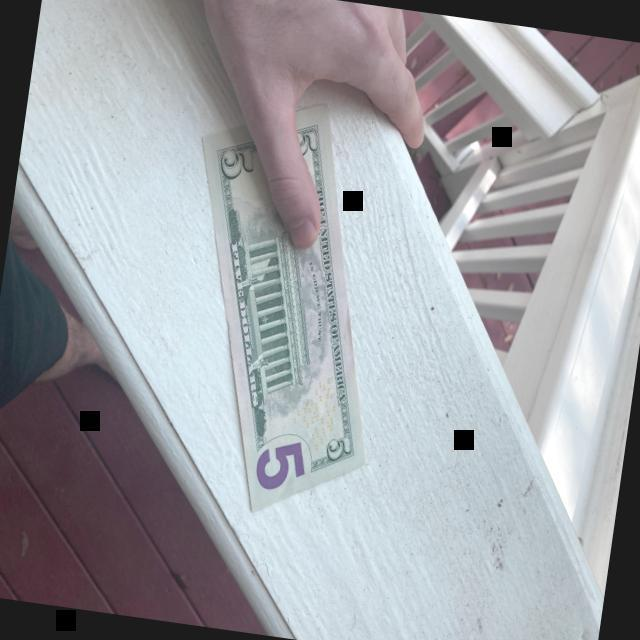five: (200, 101, 366, 514)
